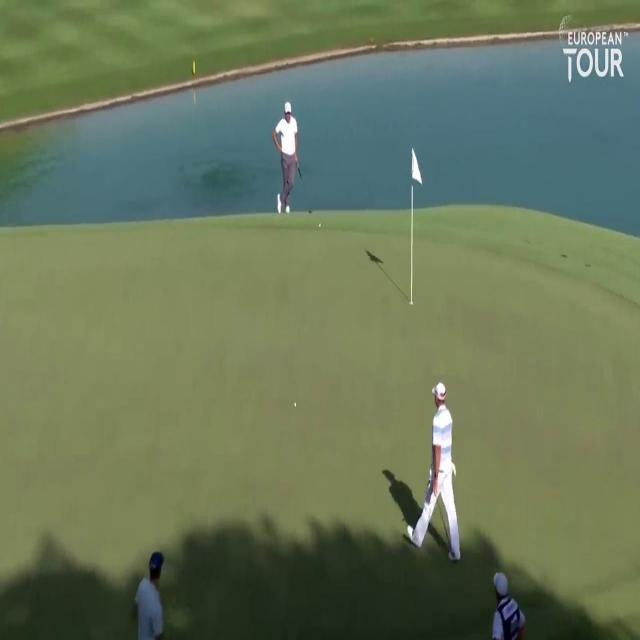GolfBall: (288, 398, 306, 412)
